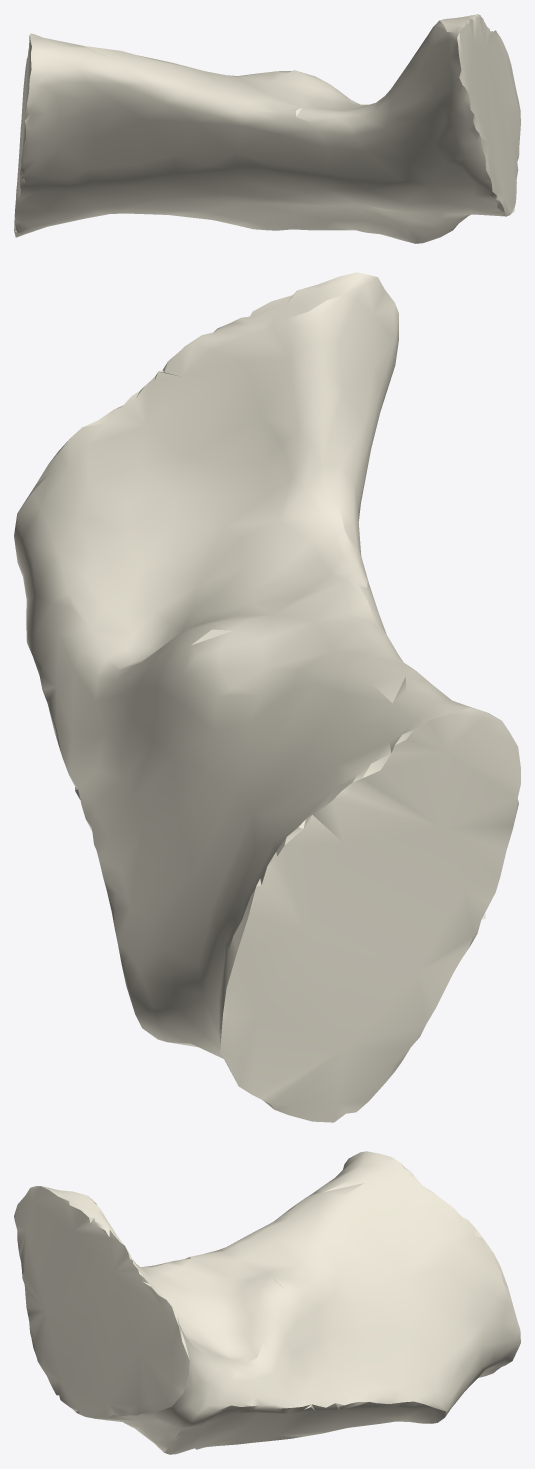
File: fma16178_mm2335.glb
The picture shows the model from 3 angles, top to bottom: view 1: azimuth 30°, elevation 25°; view 2: azimuth 150°, elevation 25°; view 3: azimuth 270°, elevation 25°; orthographic projection. The views are drawn at different scales.
Visible parts, largest first — view 1: FMA16178_MM2335; view 2: FMA16178_MM2335; view 3: FMA16178_MM2335.
Part boxes in pixels (<box>): FMA16178_MM2335: <box>14,14,520,243</box>; FMA16178_MM2335: <box>14,272,520,1122</box>; FMA16178_MM2335: <box>14,1151,520,1454</box>.
Bounding box in the file's own units: 0.0223 × 0.0167 × 0.0264.
